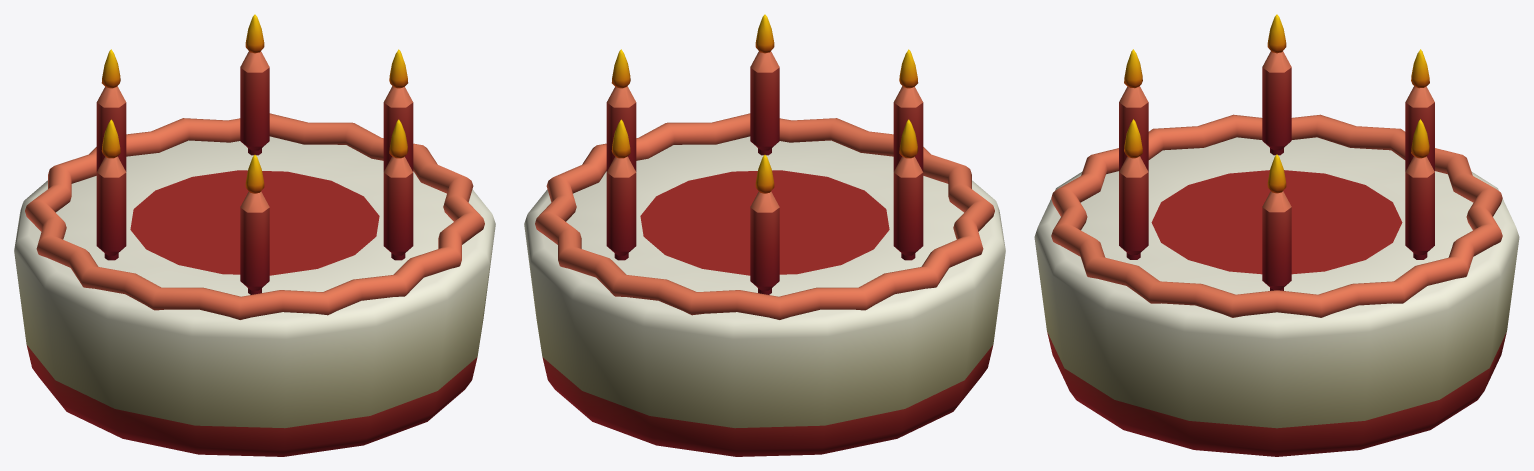
The model's file is Cake_02.glb.
3 renders of one model, left to right at view 1: azimuth 30°, elevation 25°; view 2: azimuth 150°, elevation 25°; view 3: azimuth 270°, elevation 25°, orthographic.
Parts seen in each view (by area): view 1: Cake_02; view 2: Cake_02; view 3: Cake_02.
Boxes of the visible parts, x1=… form: Cake_02: x1=14, y1=14, x2=495, y2=456; Cake_02: x1=524, y1=14, x2=1005, y2=456; Cake_02: x1=1034, y1=14, x2=1519, y2=456.
Size of the model in its own units: 0.8054 by 0.5228 by 0.8054.
1 material, 1 textured.
